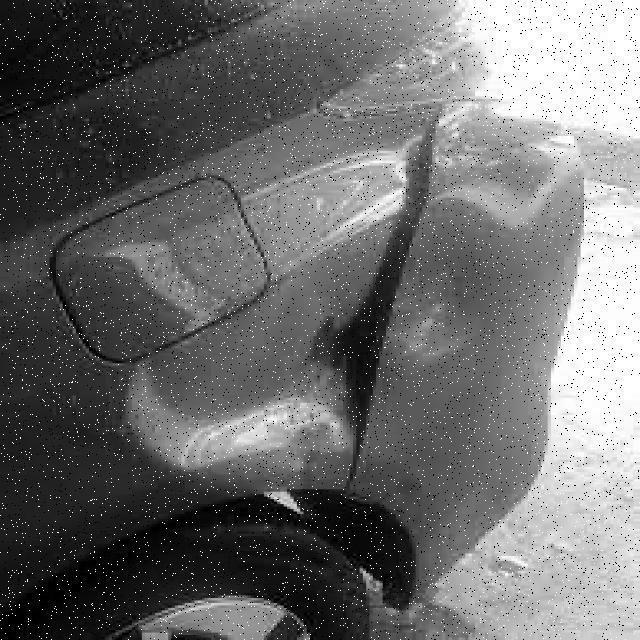quaterpanel-dent: (0, 118, 380, 638)
rear-bumper-dent: (381, 67, 592, 613)
